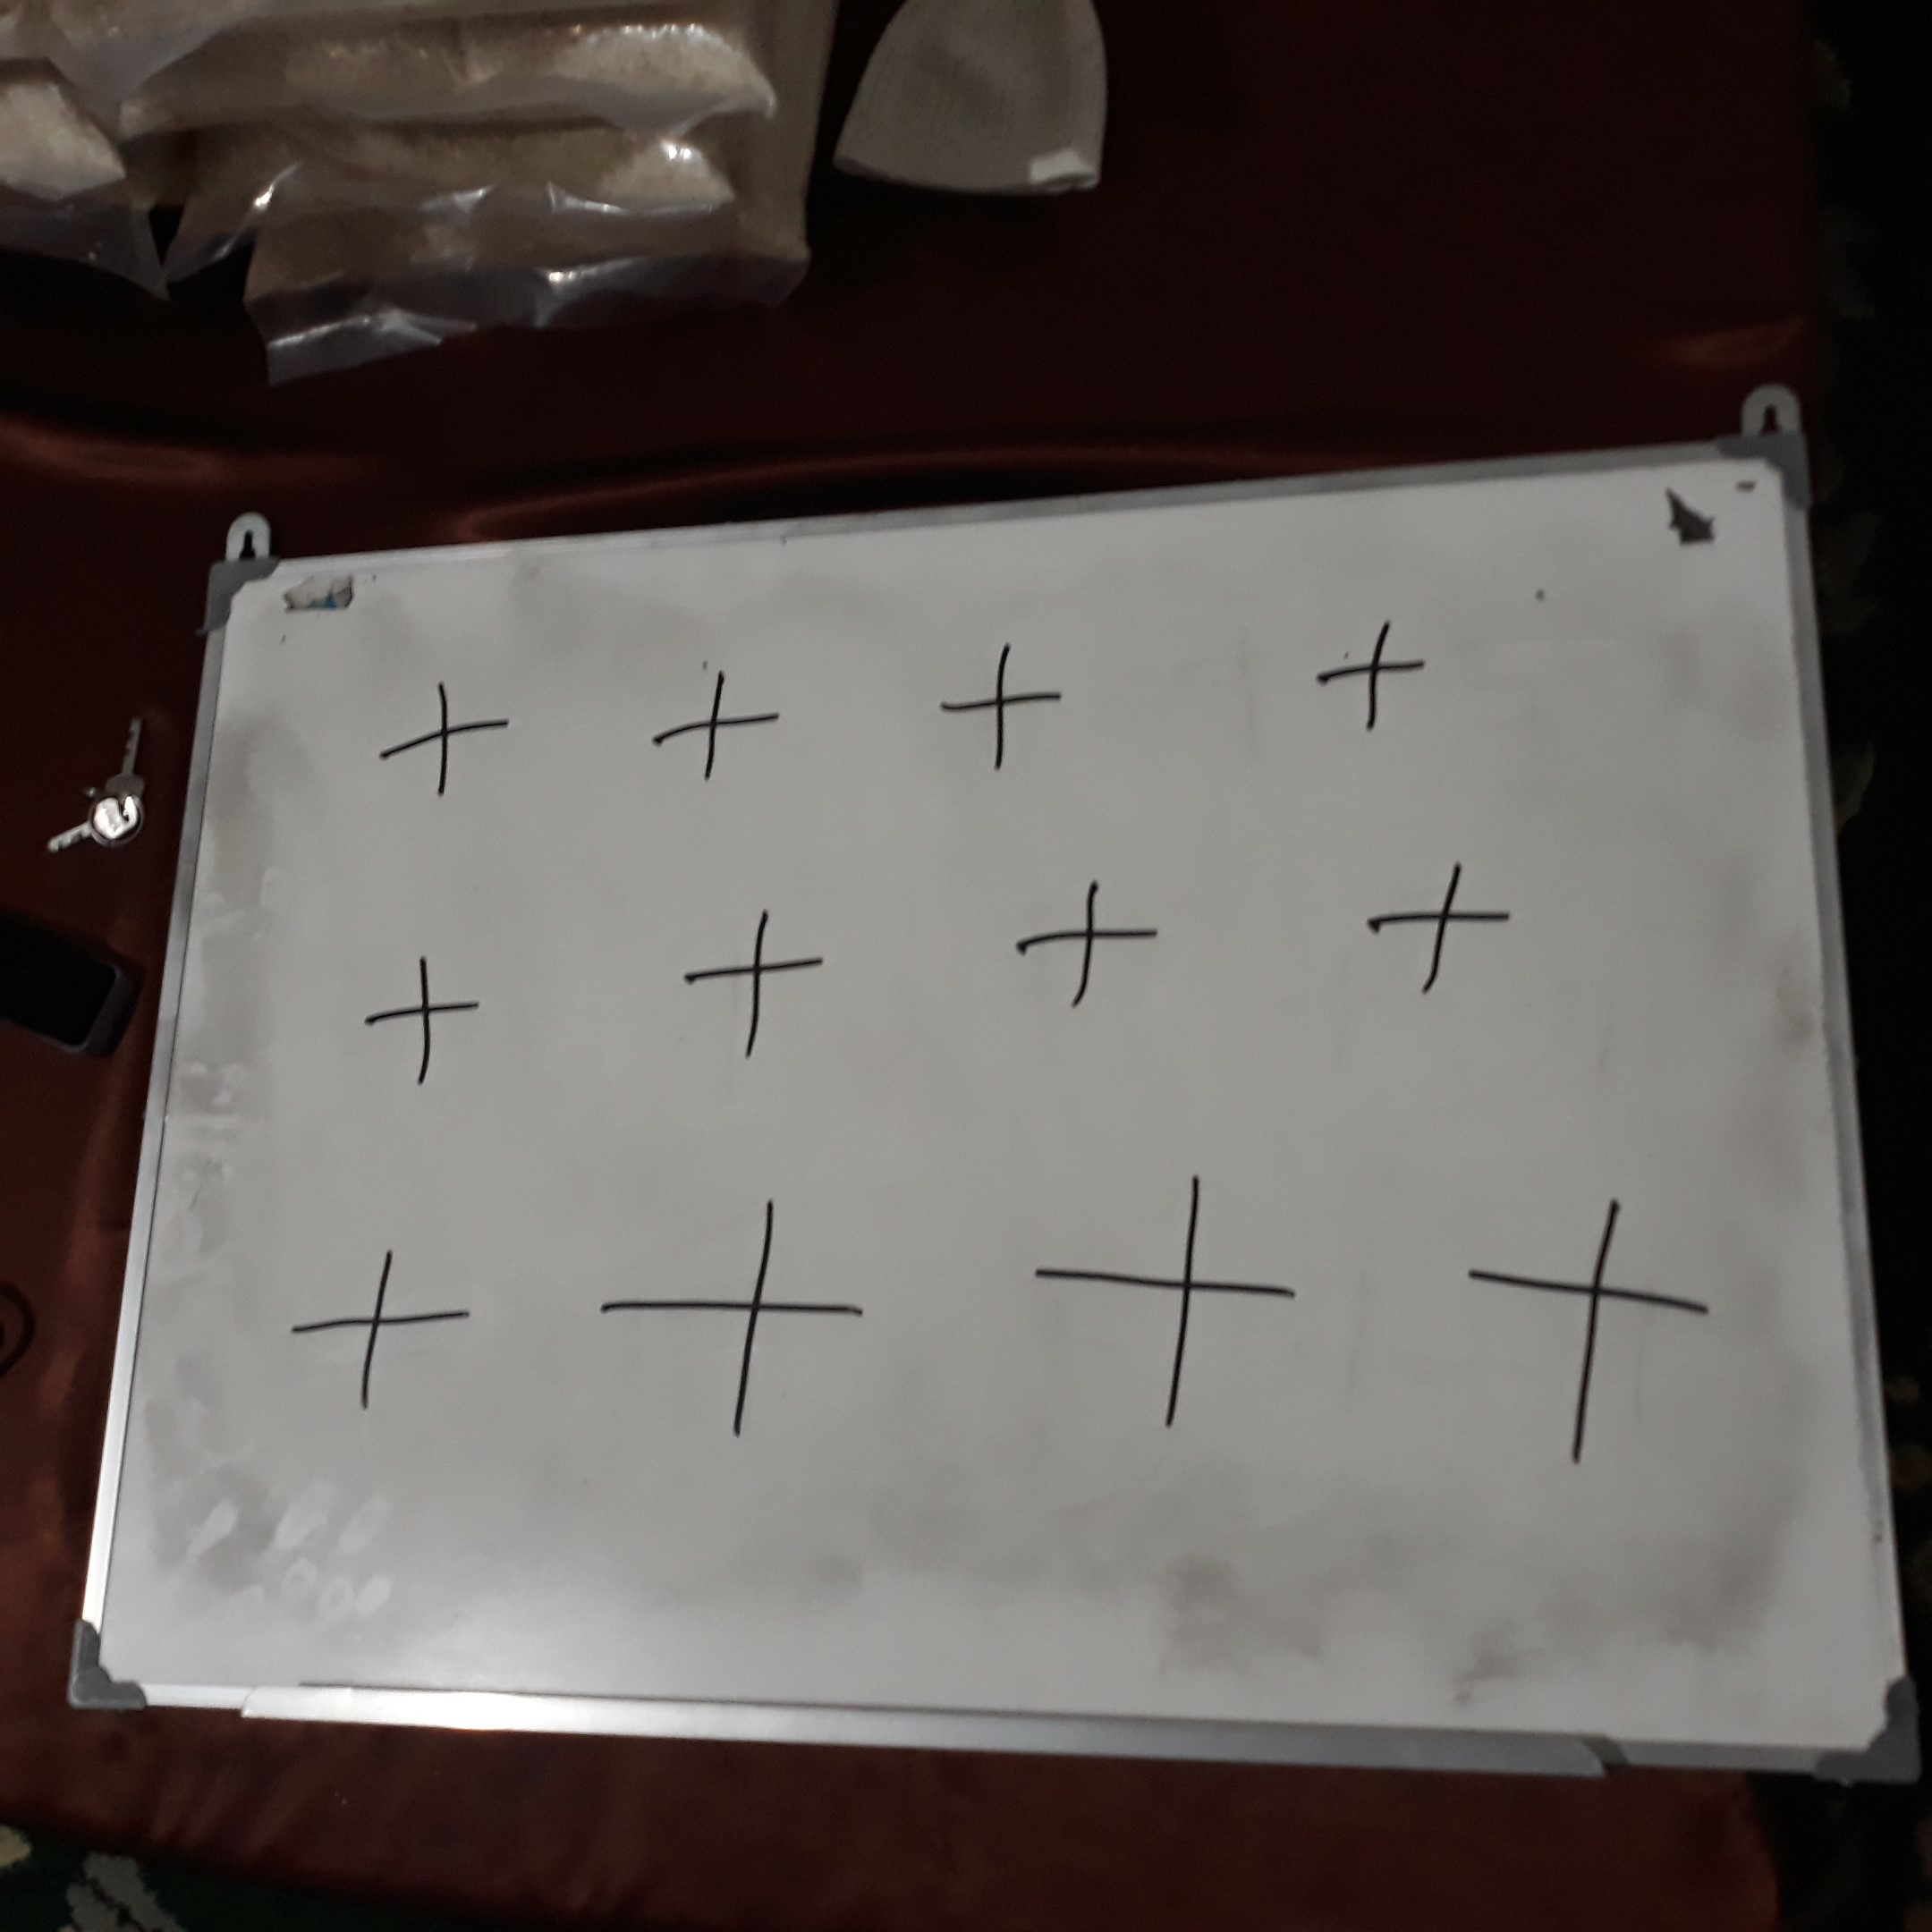sum: (1428, 1171, 1748, 1471), (588, 1177, 908, 1451), (1016, 1169, 1336, 1443), (272, 1228, 488, 1417), (1000, 839, 1176, 1030), (1356, 818, 1529, 1005), (674, 887, 841, 1076), (640, 647, 794, 808), (922, 624, 1077, 785), (343, 940, 496, 1102), (362, 660, 526, 811), (1297, 600, 1446, 739)
